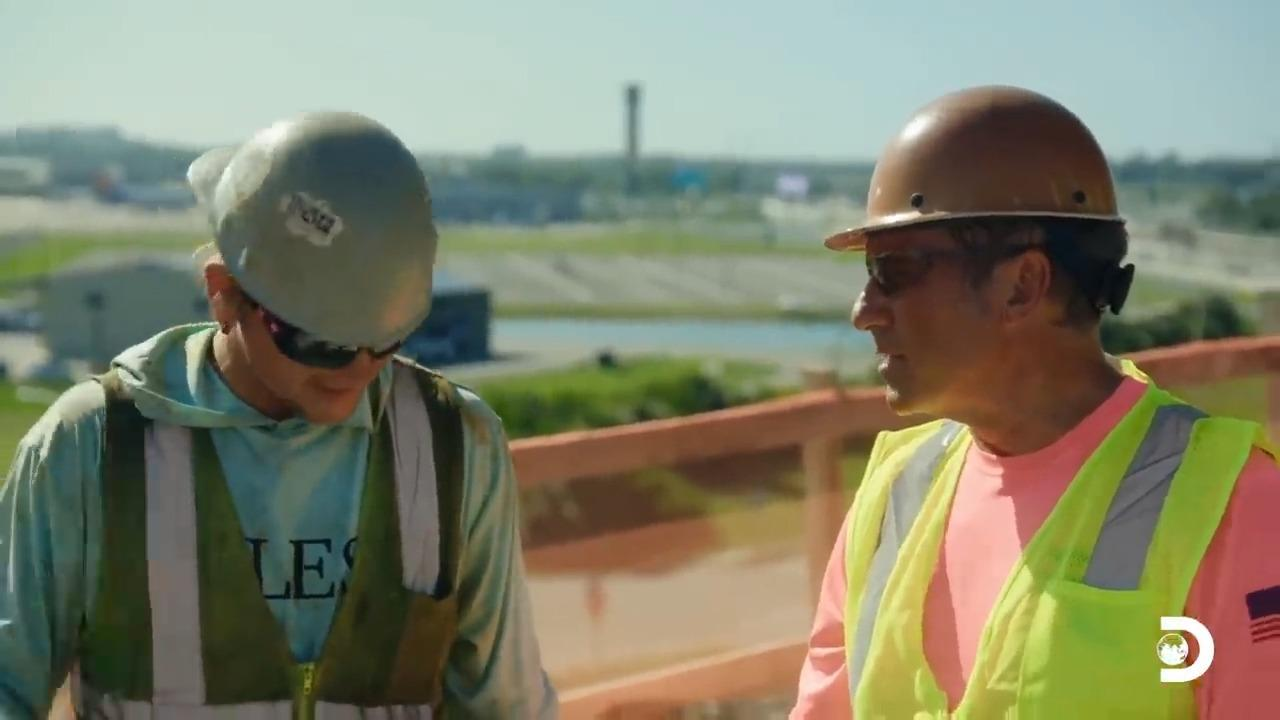Helmet: (822, 82, 1126, 252)
Person: (0, 108, 560, 719)
Safety Vest: (71, 377, 429, 720), (865, 448, 1237, 717)
